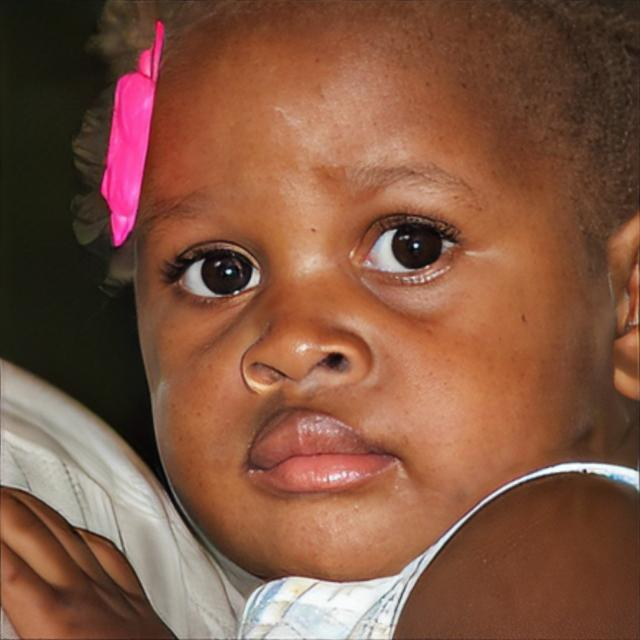disgust: (130, 0, 612, 583)
